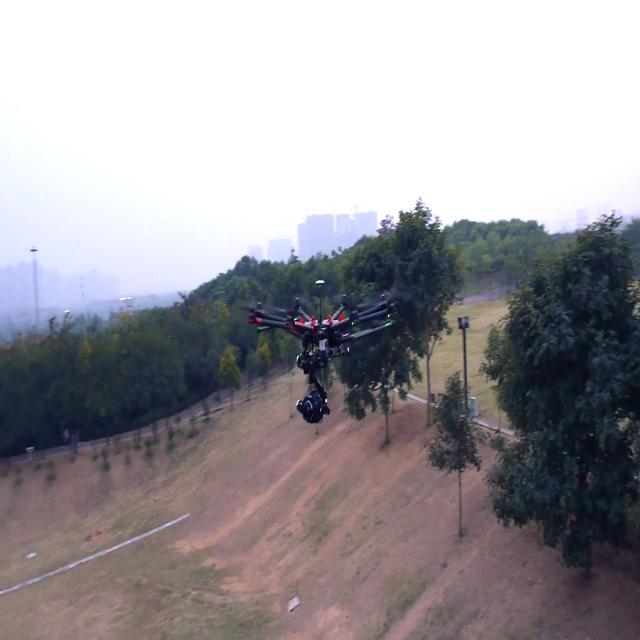drone: (240, 273, 413, 439)
